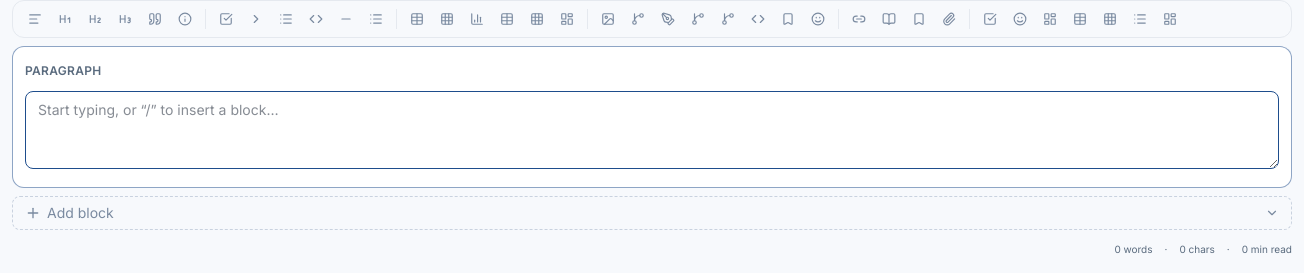
Scenario: BlockEditor — Know Studio blocks › shows a live word-count status bar that updates as you type
Expected: the text "0 words" is shown, [1114,242,1152,256]
In the text box named "Paragraph content": (652, 130) [25,91,1279,169], type "one two three"
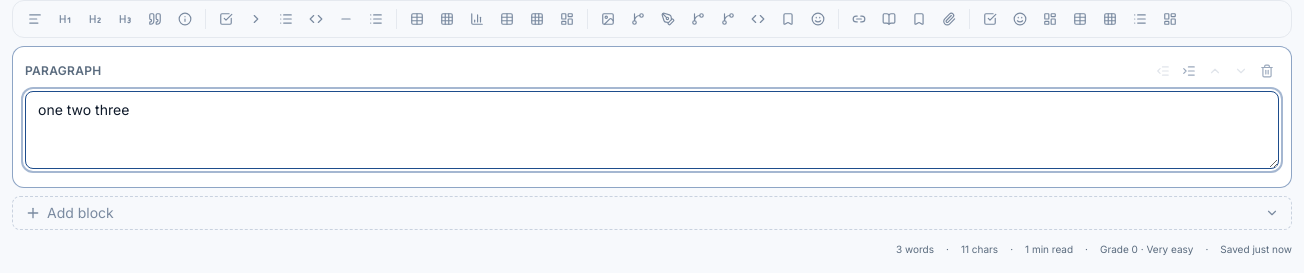
Now the text "3 words" is shown, box [896,242,934,256]
